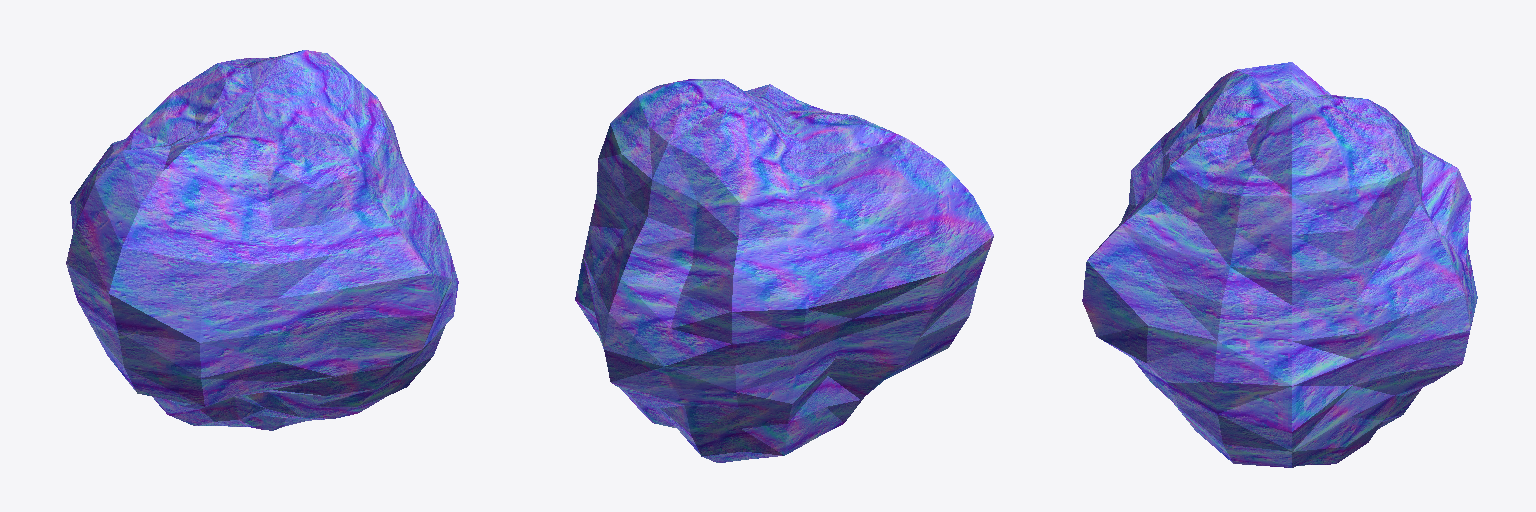
3 renders of one model, left to right at view 1: azimuth 30°, elevation 25°; view 2: azimuth 150°, elevation 25°; view 3: azimuth 270°, elevation 25°, orthographic.
Parts seen in each view (by area): view 1: Sphere.001_Sphere.002; view 2: Sphere.001_Sphere.002; view 3: Sphere.001_Sphere.002.
Part boxes in pixels (x1,y1,x2,y2): Sphere.001_Sphere.002: (66, 50, 458, 430); Sphere.001_Sphere.002: (575, 79, 993, 462); Sphere.001_Sphere.002: (1082, 62, 1477, 467).
Size of the model in its own units: 2.23 by 2.01 by 2.04.
Materials: 1 (1 with a texture image).